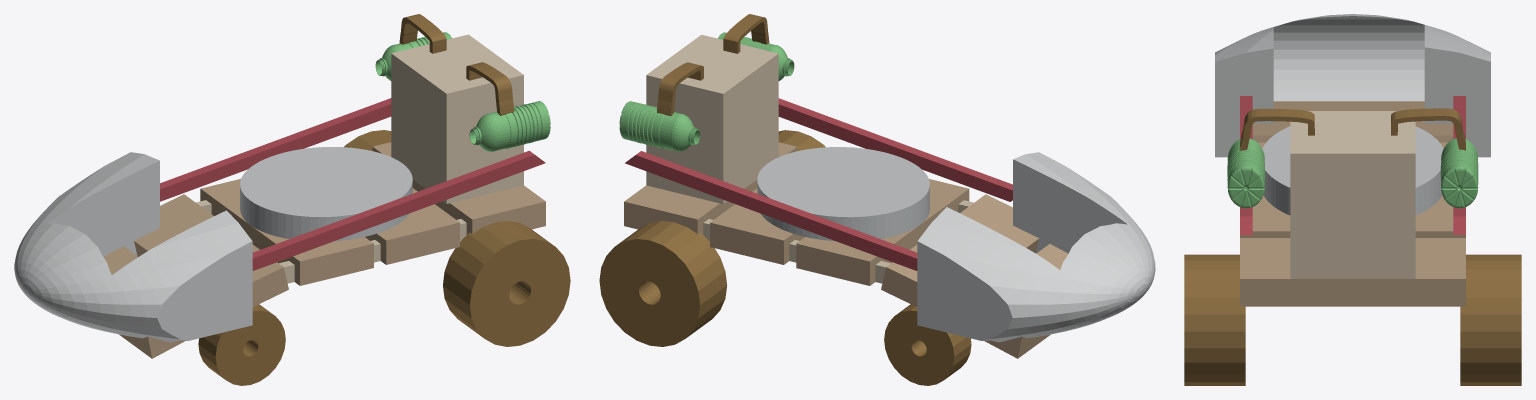
File: POGOlux-1.glb
The picture shows the model from 3 angles, left to right: view 1: azimuth 30°, elevation 25°; view 2: azimuth 150°, elevation 25°; view 3: azimuth 270°, elevation 25°; orthographic projection. The views are drawn at different scales.
Parts seen in each view (by area): view 1: Mesh_Mesh_head_geo.001_lambert2SG.001; view 2: Mesh_Mesh_head_geo.001_lambert2SG.001; view 3: Mesh_Mesh_head_geo.001_lambert2SG.001.
Boxes of the visible parts, left/top/right/bottom form: Mesh_Mesh_head_geo.001_lambert2SG.001: left=14, top=14, right=570, bottom=385; Mesh_Mesh_head_geo.001_lambert2SG.001: left=599, top=14, right=1155, bottom=385; Mesh_Mesh_head_geo.001_lambert2SG.001: left=1184, top=14, right=1521, bottom=385.
Size of the model in its own units: 20 by 9.84 by 11.
